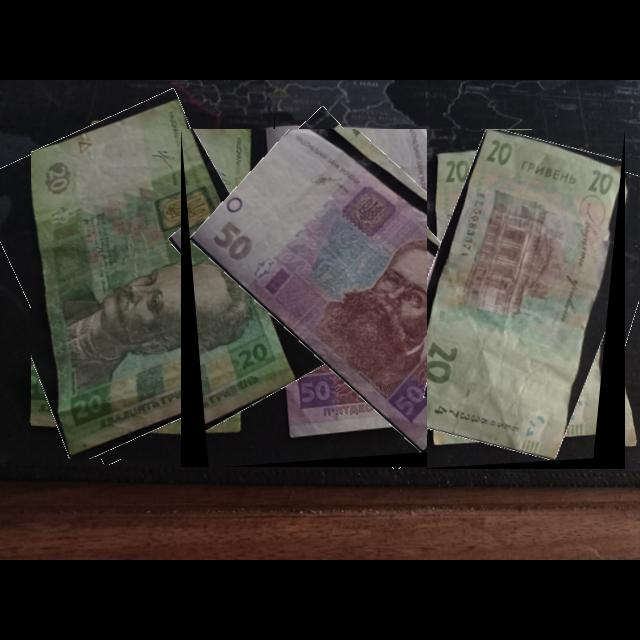20uah: (31, 102, 256, 460), (427, 130, 623, 463)
50uah: (188, 129, 533, 456)
